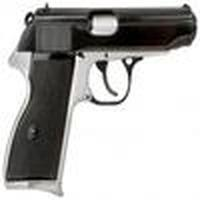gun: (5, 5, 199, 192)
